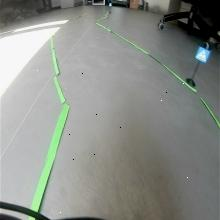crosswalk: (194, 46, 211, 64)
